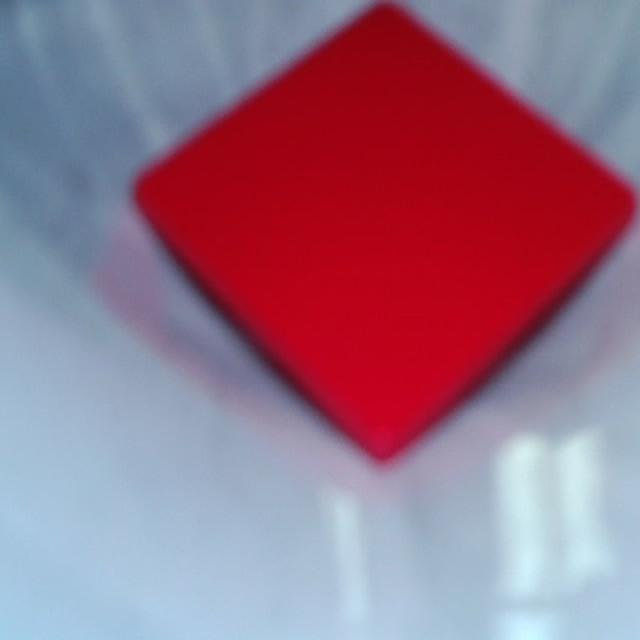square: (137, 5, 634, 455)
